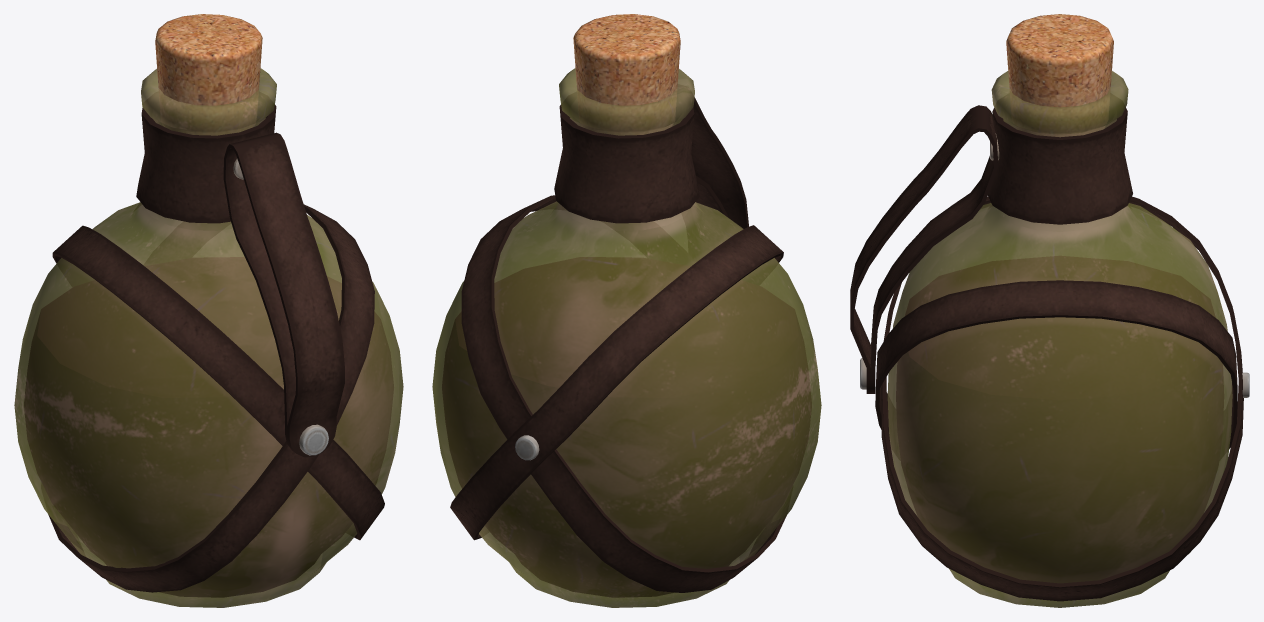
The model's file is flask_with_potion.glb.
3 renders of one model, left to right at view 1: azimuth 30°, elevation 25°; view 2: azimuth 150°, elevation 25°; view 3: azimuth 270°, elevation 25°, orthographic.
Visible parts, largest first — view 1: Object_3, Object_5, Object_2, Object_4; view 2: Object_3, Object_5, Object_2, Object_4; view 3: Object_3, Object_5, Object_2, Object_4.
Boxes of the visible parts, x1=… form: Object_3: x1=14, y1=68, x2=403, y2=607; Object_5: x1=24, y1=257, x2=393, y2=597; Object_2: x1=48, y1=105, x2=384, y2=592; Object_4: x1=155, y1=14, x2=328, y2=455; Object_3: x1=432, y1=68, x2=821, y2=607; Object_5: x1=442, y1=257, x2=811, y2=597; Object_2: x1=450, y1=97, x2=786, y2=592; Object_4: x1=515, y1=14, x2=680, y2=460; Object_3: x1=887, y1=71, x2=1232, y2=607; Object_5: x1=896, y1=256, x2=1223, y2=582; Object_2: x1=850, y1=105, x2=1243, y2=601; Object_4: x1=860, y1=14, x2=1249, y2=397.
Bounding box in the file's own units: 19.09 × 28.6 × 19.71.
4 materials, 4 textured.
